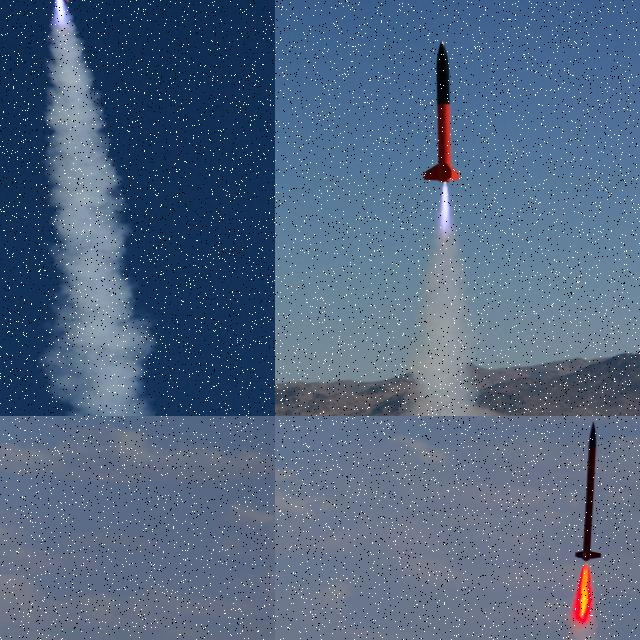Rocket: (424, 39, 462, 183), (574, 420, 603, 562)
